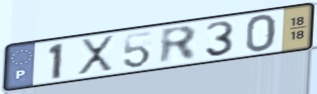0: (244, 12, 280, 54)
1: (46, 41, 66, 81)
3: (203, 20, 236, 58)
5: (122, 29, 154, 70)
R: (158, 24, 199, 67)
X: (76, 33, 116, 76)
